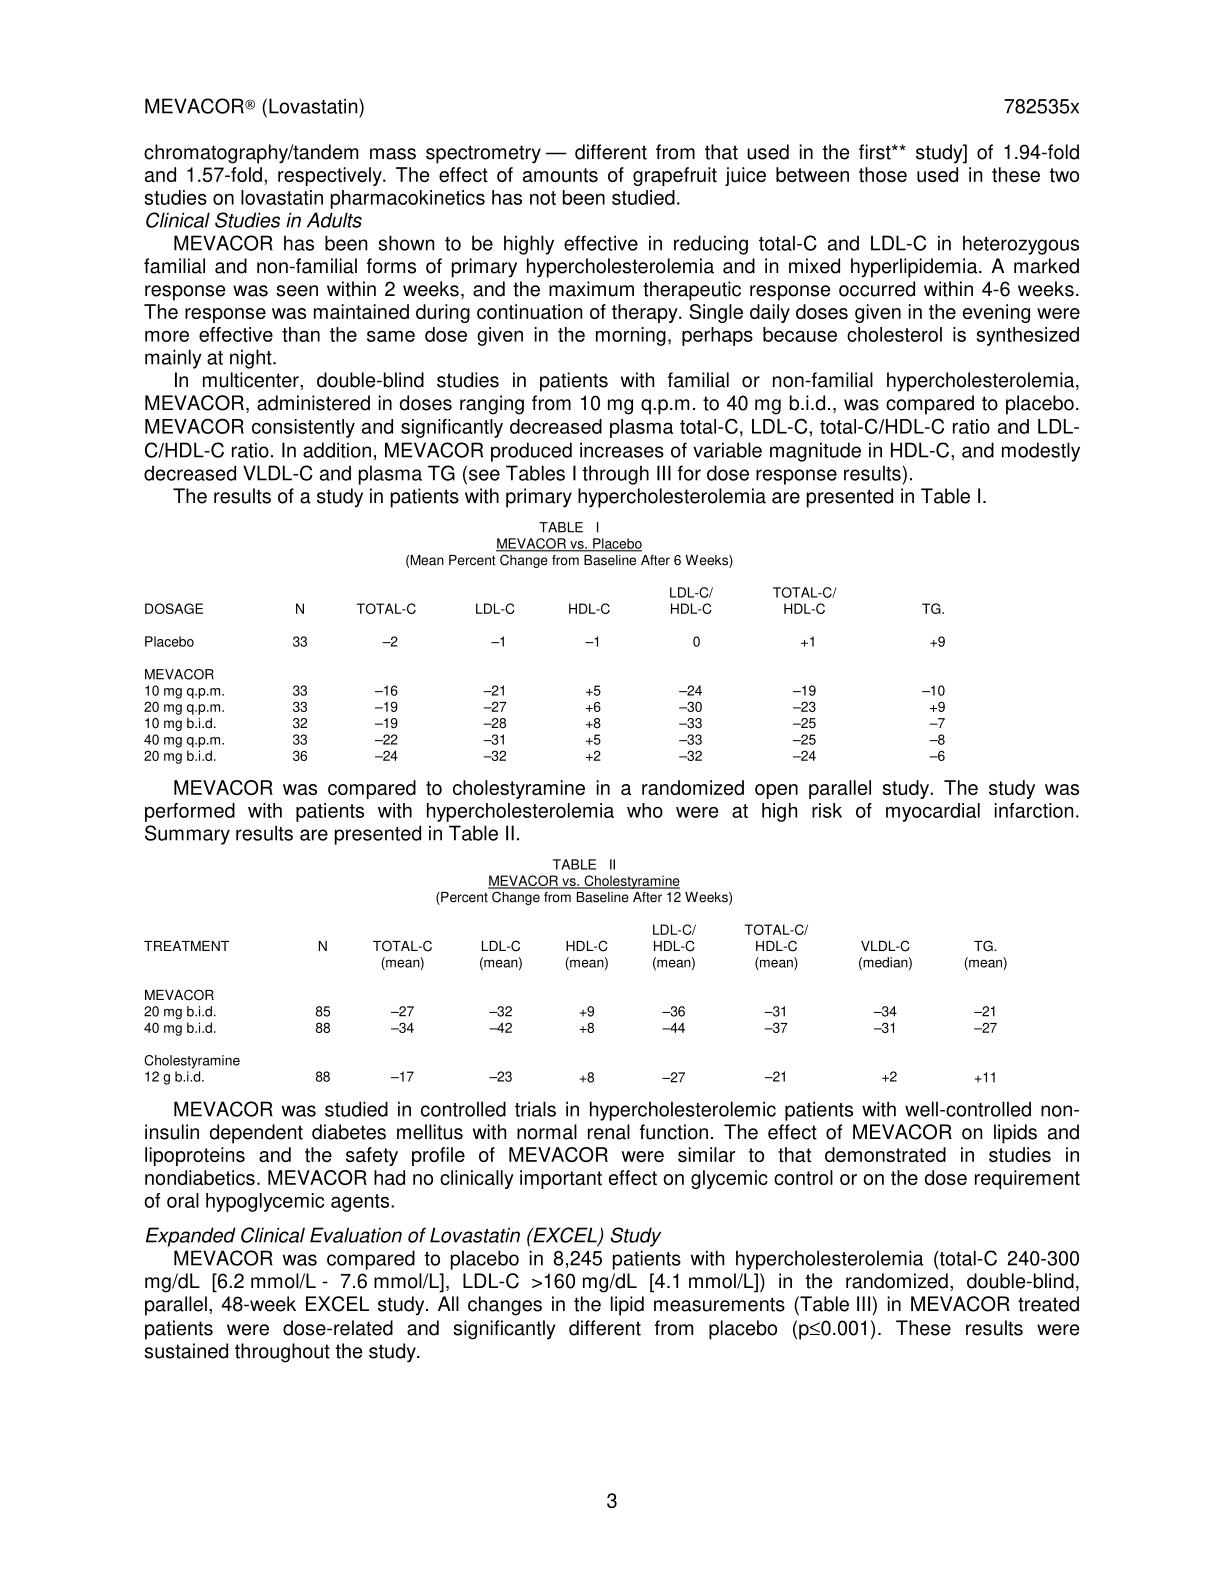nolines: (144, 915, 1011, 1088), (141, 597, 948, 765)
